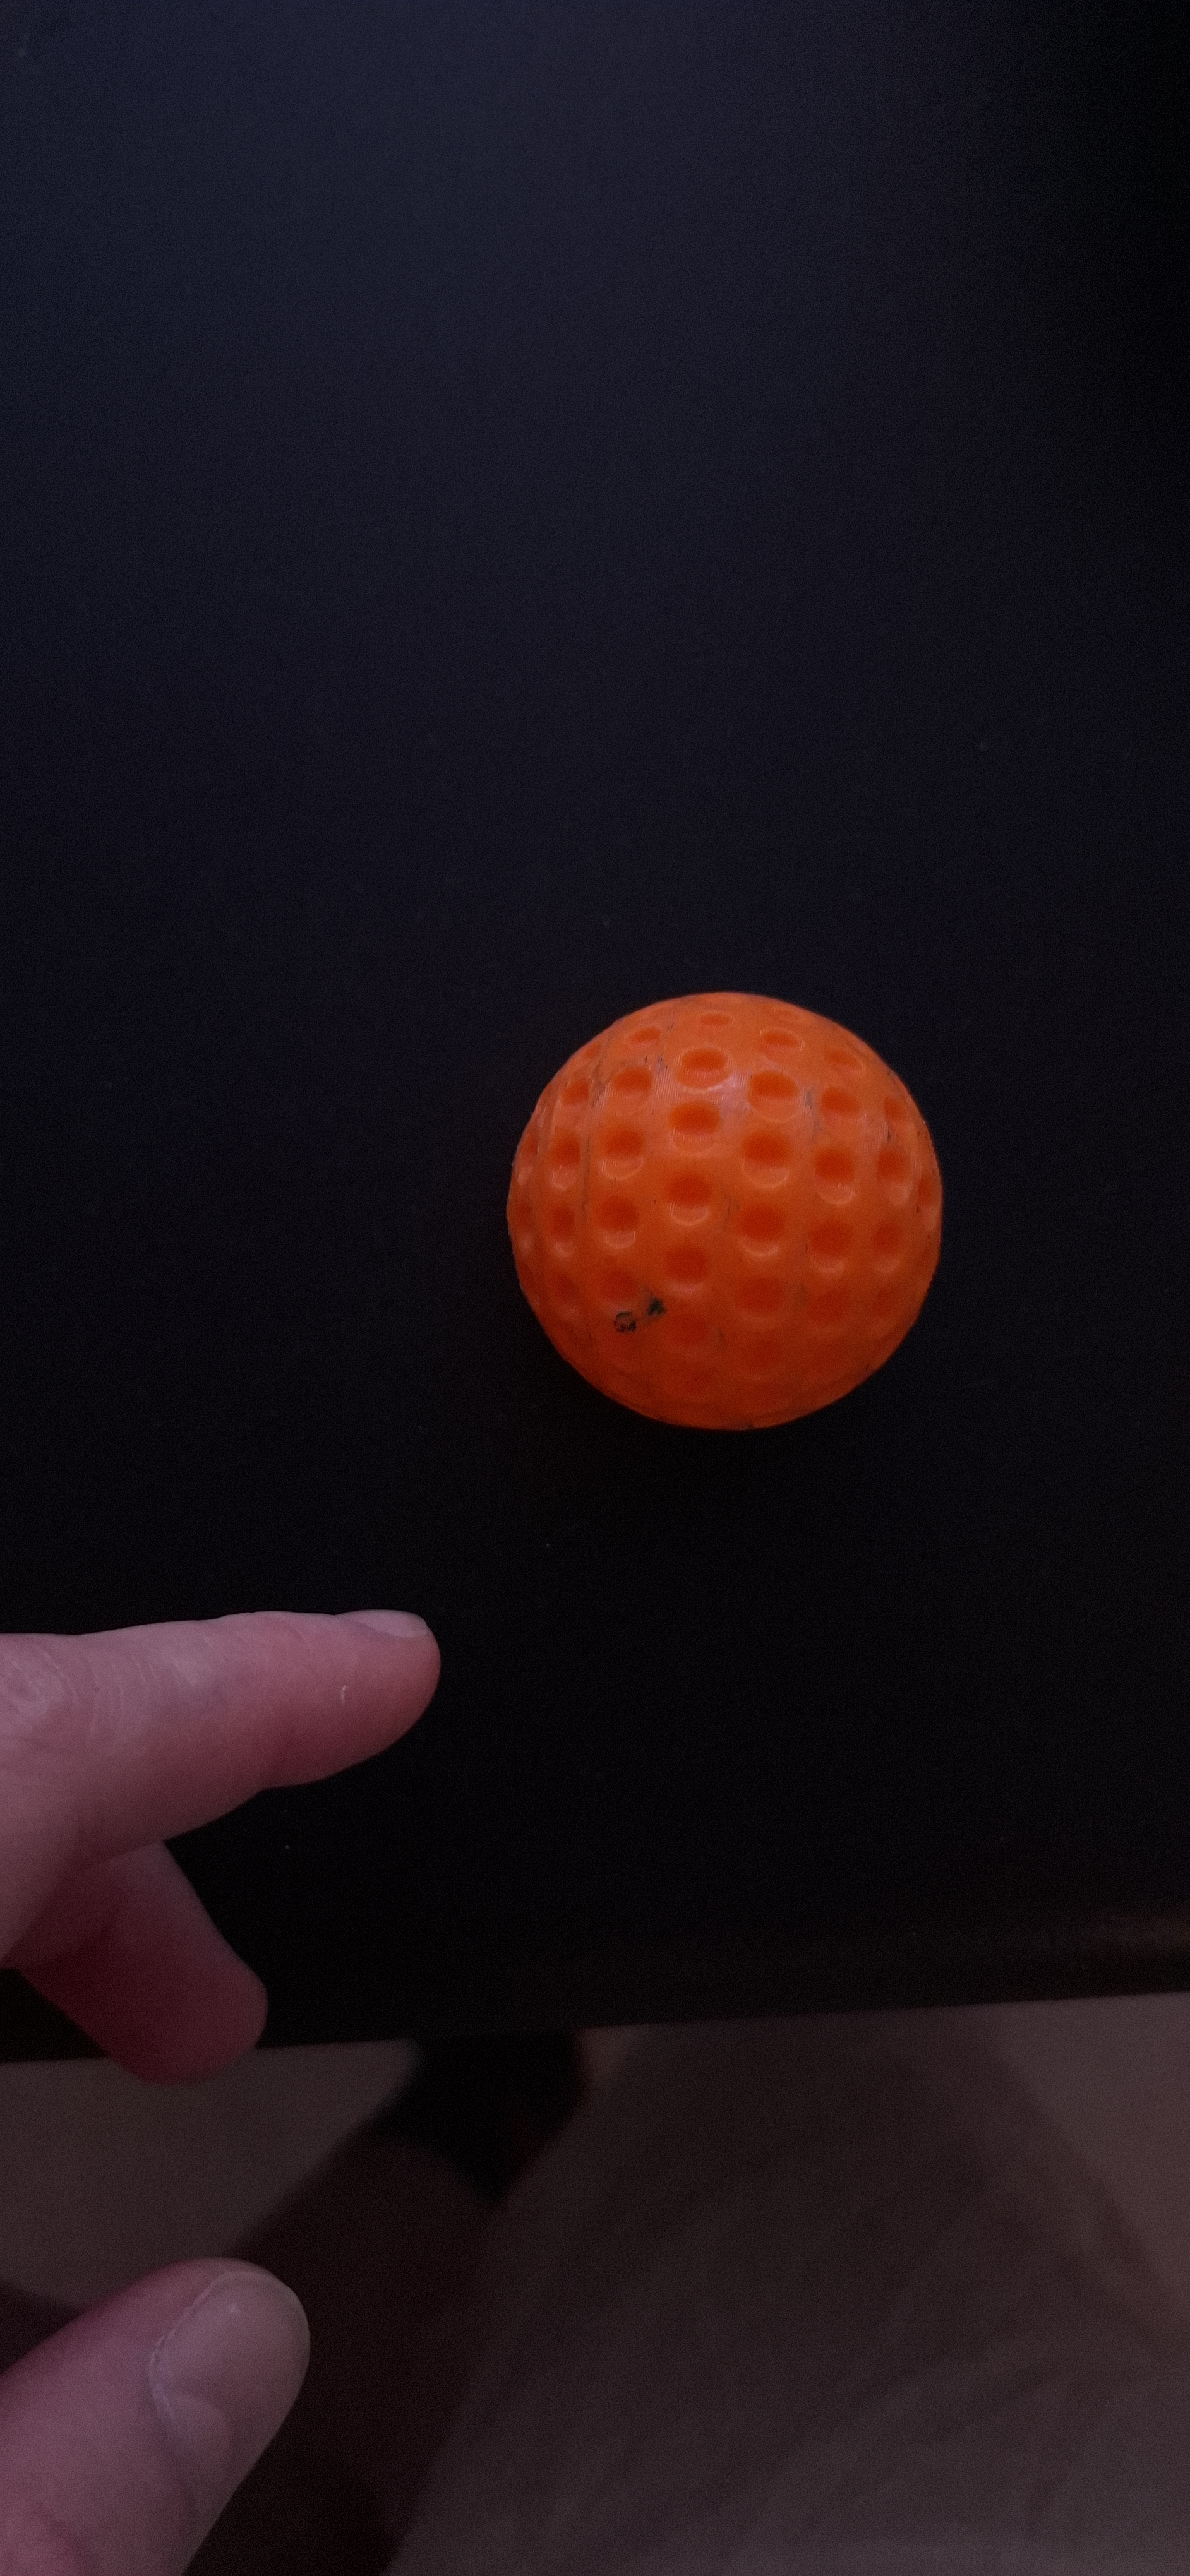ball: (457, 540, 659, 1487)
